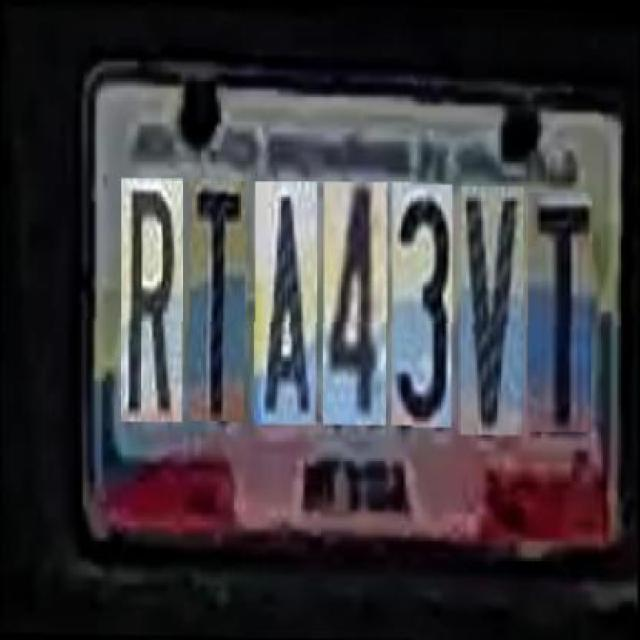3: (392, 180, 452, 423)
4: (323, 180, 386, 422)
a: (253, 180, 316, 422)
r: (120, 178, 182, 422)
t: (527, 188, 591, 428), (188, 178, 244, 420)
v: (460, 182, 522, 430)
